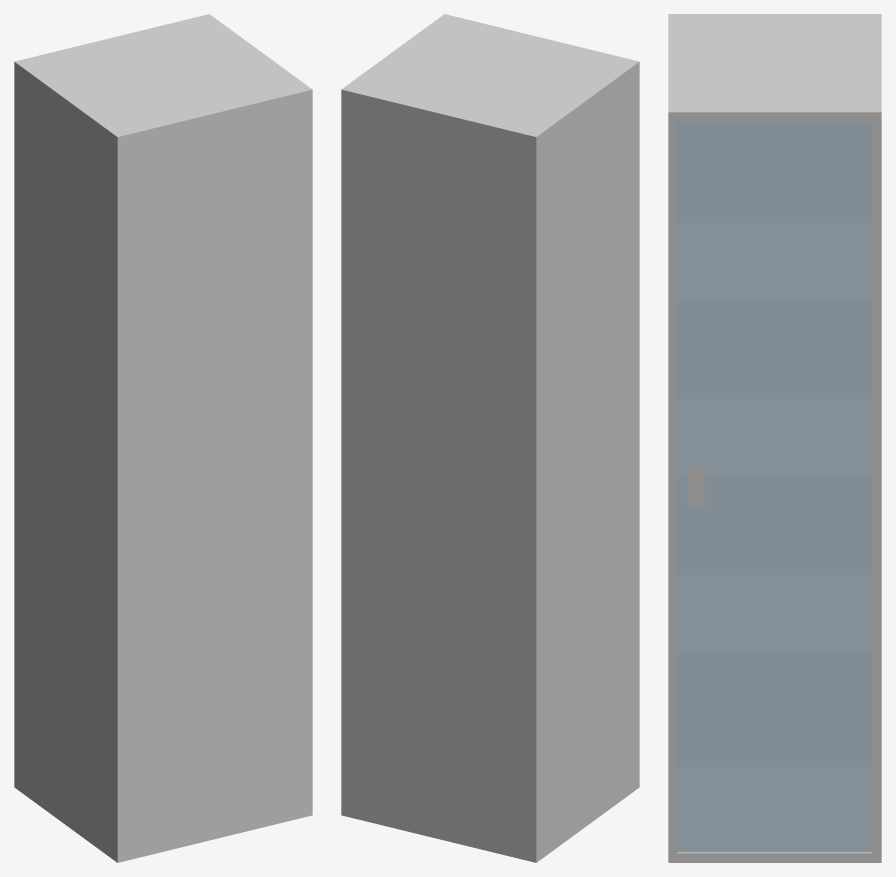
Rendered from showcase.fbx.
3 renders of one model, left to right at view 1: azimuth 30°, elevation 25°; view 2: azimuth 150°, elevation 25°; view 3: azimuth 270°, elevation 25°, orthographic. The views are drawn at different scales.
Visible parts, largest first — view 1: showcase; view 2: showcase; view 3: door, showcase.
Boxes of the visible parts, x1=… form: showcase: x1=14, y1=14, x2=312, y2=862; showcase: x1=341, y1=14, x2=639, y2=862; door: x1=677, y1=122, x2=872, y2=852; showcase: x1=668, y1=14, x2=881, y2=862.
Bounding box in the file's own units: 120 × 427 × 110.
